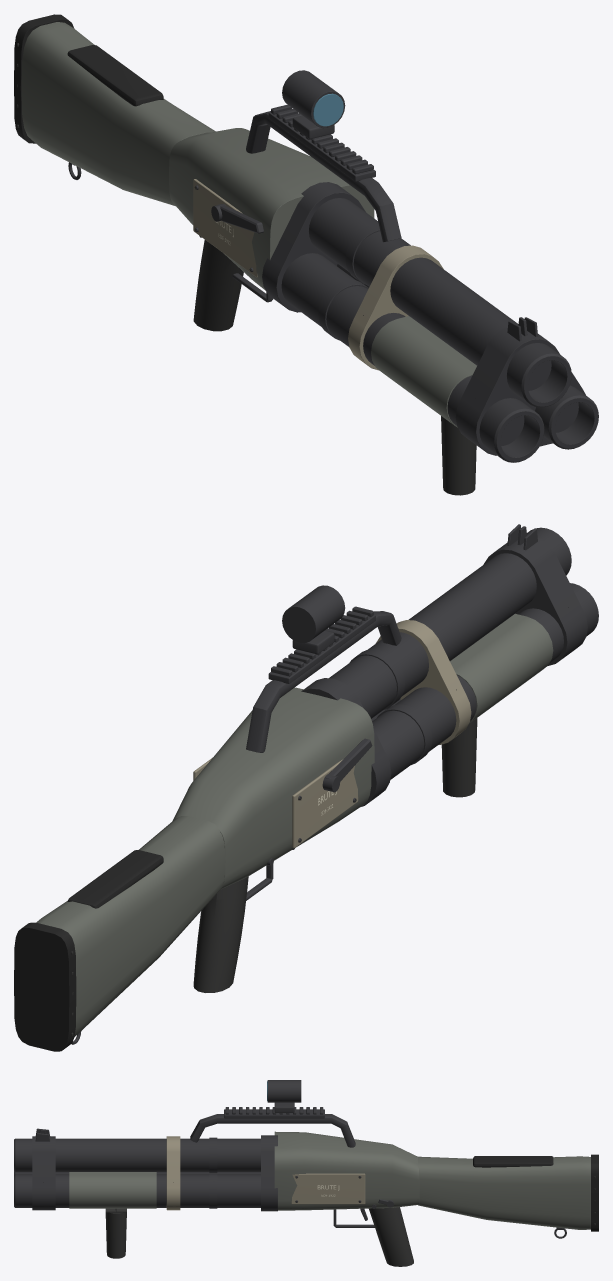
File: brute.glb
3 views of the same model, one above another, from view 1: azimuth 30°, elevation 25°; view 2: azimuth 150°, elevation 25°; view 3: azimuth 270°, elevation 25° (orthographic). The views are drawn at different scales.
Visible parts, largest first — view 1: Body; view 2: Body; view 3: Body.
Boxes of the visible parts, box(x1,y1,x2,y2) form: Body: box(14, 14, 598, 495); Body: box(14, 524, 598, 1051); Body: box(14, 1080, 598, 1266).
Bounding box in the file's own units: 0.117 × 0.2974 × 0.869.
